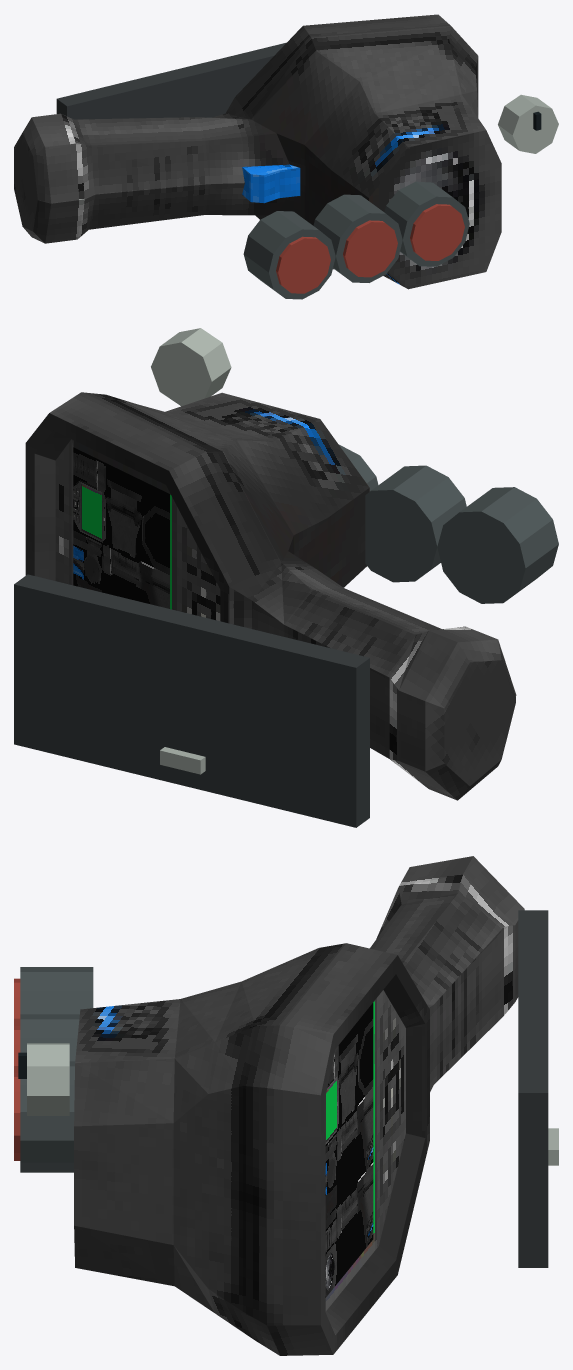
File: blender_laser_grid_2.glb
The picture shows the model from 3 angles, top to bottom: view 1: azimuth 30°, elevation 25°; view 2: azimuth 150°, elevation 25°; view 3: azimuth 270°, elevation 25°; orthographic projection. The views are drawn at different scales.
Parts seen in each view (by area): view 1: blender_laser_grid_2; view 2: blender_laser_grid_2; view 3: blender_laser_grid_2.
Boxes of the visible parts, bbox=[...] form: blender_laser_grid_2: bbox=[14, 14, 558, 299]; blender_laser_grid_2: bbox=[14, 328, 558, 827]; blender_laser_grid_2: bbox=[14, 856, 558, 1355].
Size of the model in its own units: 0.155 by 0.085 by 0.127.
Materials: 1 (1 with a texture image).
